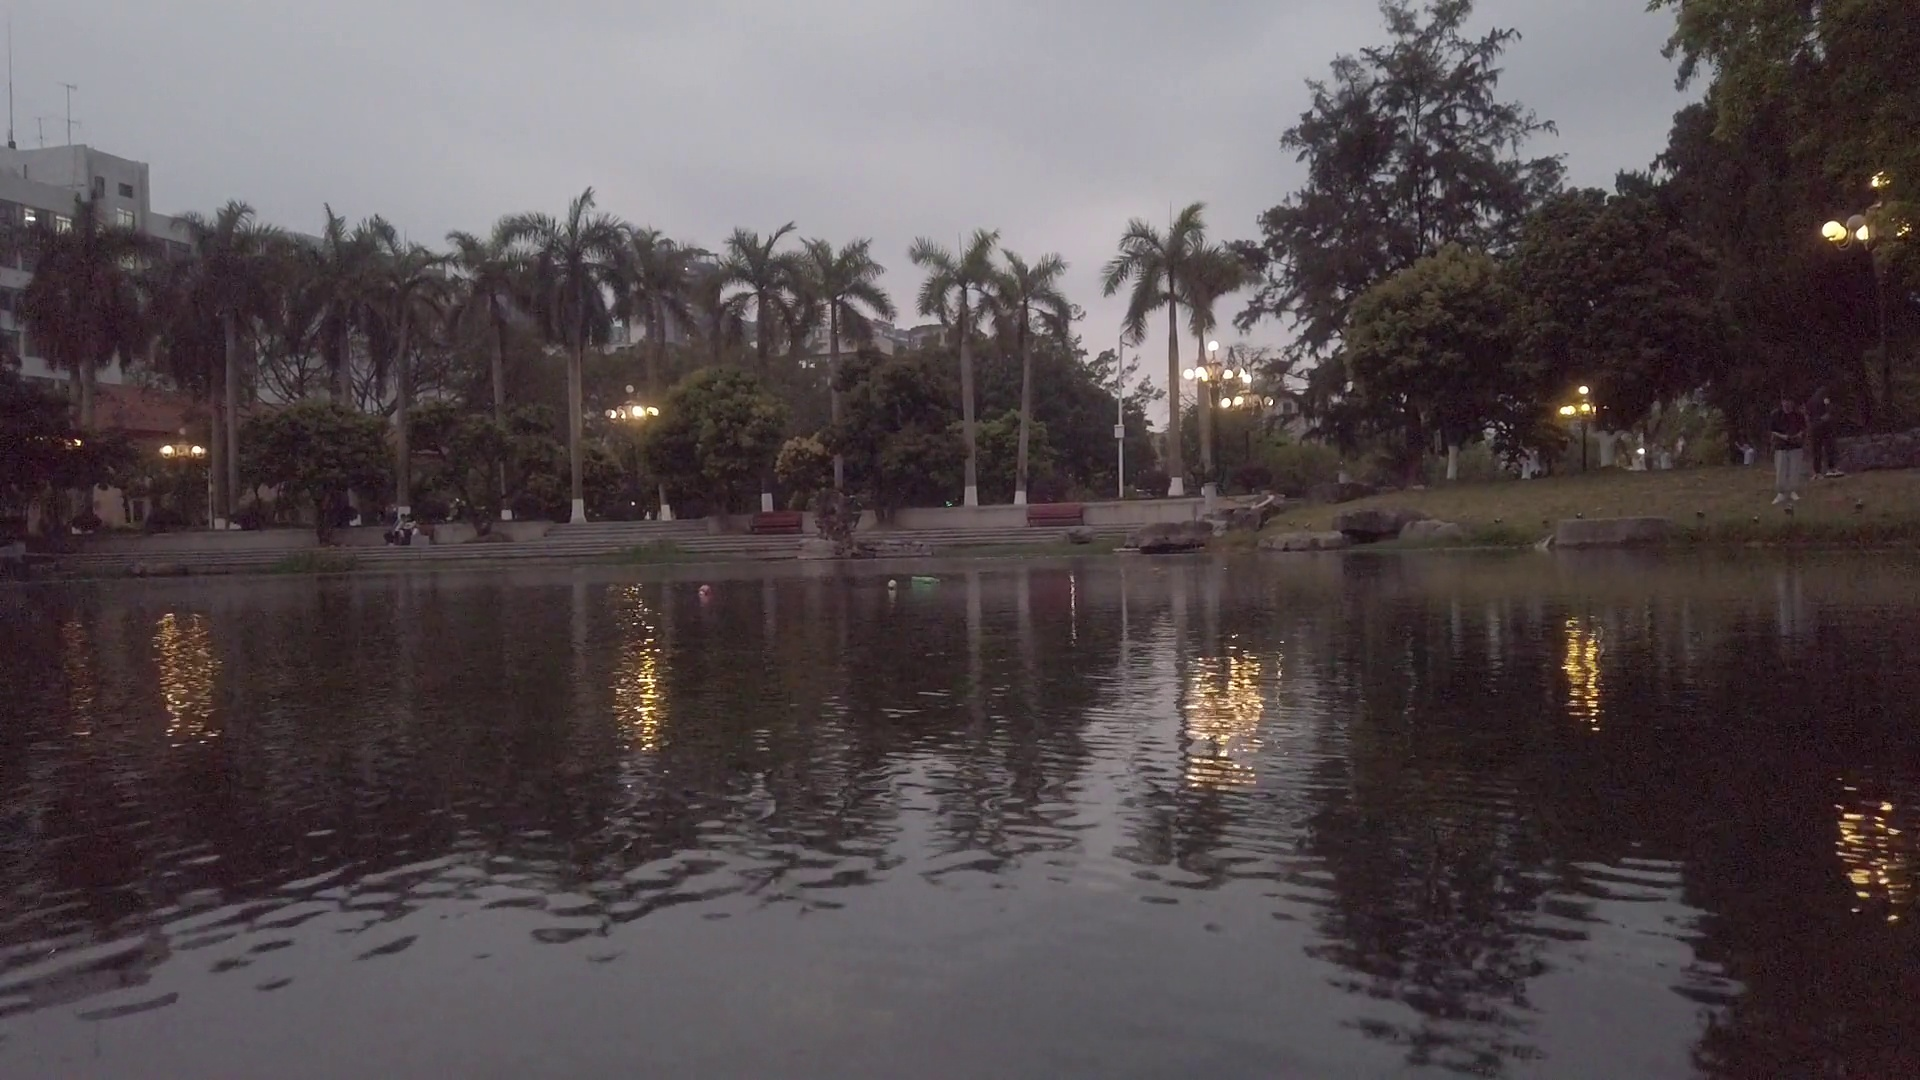bottle: (910, 575, 940, 587), (698, 583, 709, 597), (887, 578, 898, 589)
